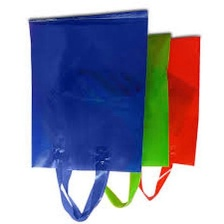plastic_bag: (26, 8, 153, 224), (120, 31, 205, 203), (93, 28, 172, 212)
